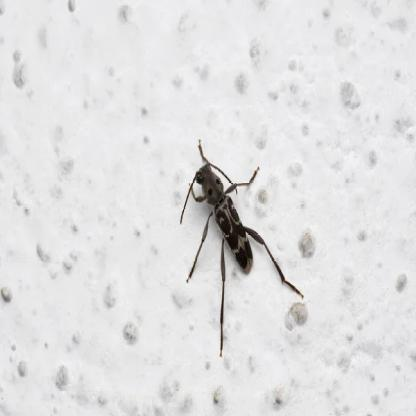sawfly: (185, 136, 308, 363)
